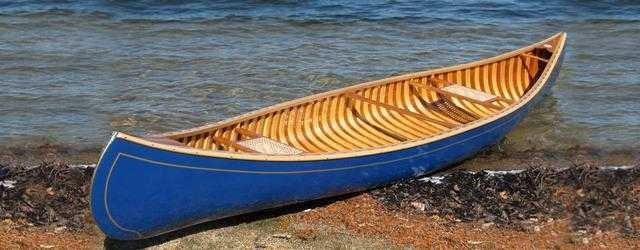kayak: (91, 30, 569, 249)
